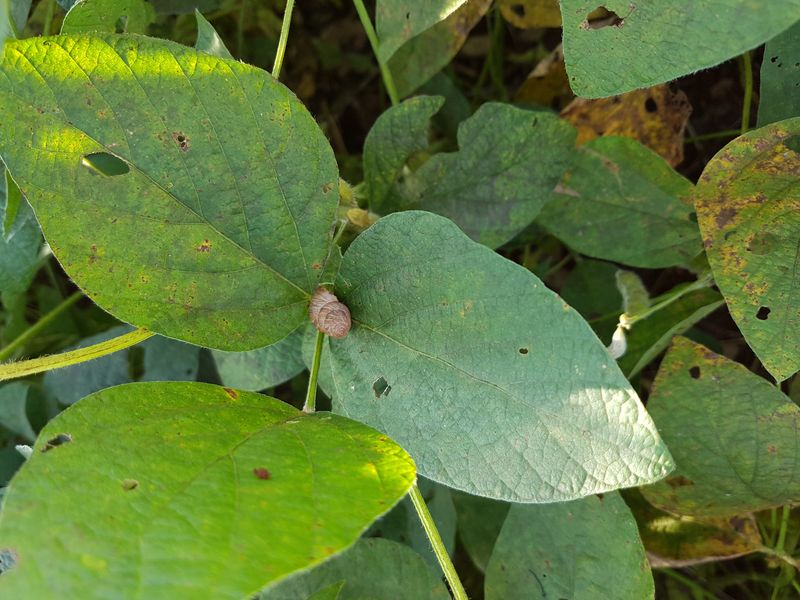Euschistus_heros_ninfa: (340, 200, 377, 234)
Gastropoda: (301, 278, 362, 346)
